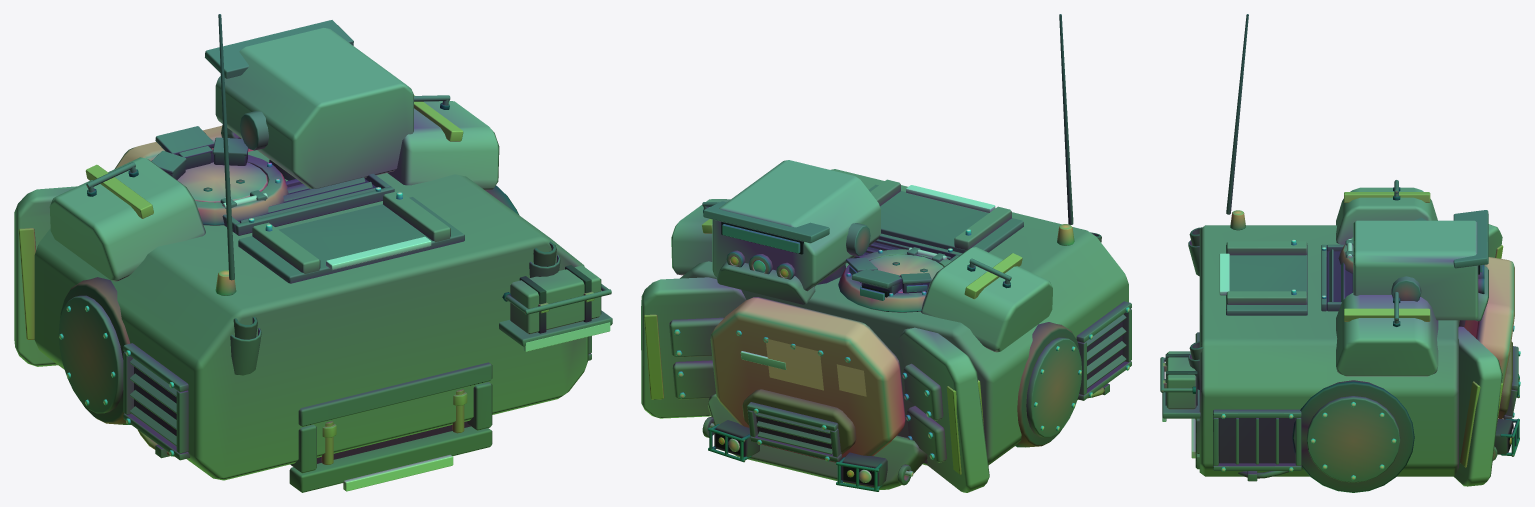
File: core_std.glb
3 renders of one model, left to right at view 1: azimuth 30°, elevation 25°; view 2: azimuth 150°, elevation 25°; view 3: azimuth 270°, elevation 25°, orthographic. The views are drawn at different scales.
Parts seen in each view (by area): view 1: Body__armor_sub, Body__armor, Body__gunmetal, Body__dark, Body__hazard, Body__accent, Body__rubber, Body__brass, Body__copper, Body__chrome; view 2: Body__armor, Body__armor_sub, Body__gunmetal, Body__dark, Body__accent, Body__decal, Body__armor_oxide, Body__glass, Body__hazard, Body__chrome, Body__bore; view 3: Body__armor_sub, Body__armor, Body__gunmetal, Body__dark, Body__accent, Body__hazard, Body__chrome, Body__armor_oxide.
Boxes of the visible parts, left/top/right/bottom form: Body__armor_sub: left=34, top=124, right=601, bottom=480; Body__armor: left=14, top=28, right=499, bottom=366; Body__gunmetal: left=58, top=20, right=612, bottom=492; Body__dark: left=60, top=14, right=556, bottom=463; Body__hazard: left=326, top=236, right=610, bottom=491; Body__accent: left=18, top=95, right=463, bottom=339; Body__rubber: left=519, top=265, right=591, bottom=333; Body__brass: left=215, top=270, right=594, bottom=437; Body__copper: left=137, top=389, right=464, bottom=464; Body__chrome: left=59, top=162, right=402, bottom=456; Body__armor: left=641, top=160, right=1052, bottom=492; Body__armor_sub: left=669, top=169, right=1128, bottom=489; Body__gunmetal: left=702, top=184, right=1131, bottom=491; Body__dark: left=703, top=14, right=1122, bottom=487; Body__accent: left=644, top=219, right=1022, bottom=474; Body__decal: left=766, top=338, right=866, bottom=396; Body__armor_oxide: left=742, top=389, right=856, bottom=454; Body__glass: left=722, top=224, right=927, bottom=300; Body__hazard: left=740, top=185, right=995, bottom=369; Body__chrome: left=674, top=229, right=1129, bottom=476; Body__bore: left=716, top=222, right=889, bottom=485; Body__armor_sub: left=1166, top=225, right=1488, bottom=476; Body__armor: left=1336, top=187, right=1514, bottom=486; Body__gunmetal: left=1160, top=180, right=1519, bottom=482; Body__dark: left=1189, top=14, right=1513, bottom=492; Body__accent: left=1344, top=192, right=1503, bottom=467; Body__hazard: left=1162, top=253, right=1510, bottom=458; Body__chrome: left=1221, top=239, right=1520, bottom=480; Body__armor_oxide: left=1498, top=342, right=1512, bottom=418.
Size of the model in its own units: 1.57 by 1.7 by 1.5.
